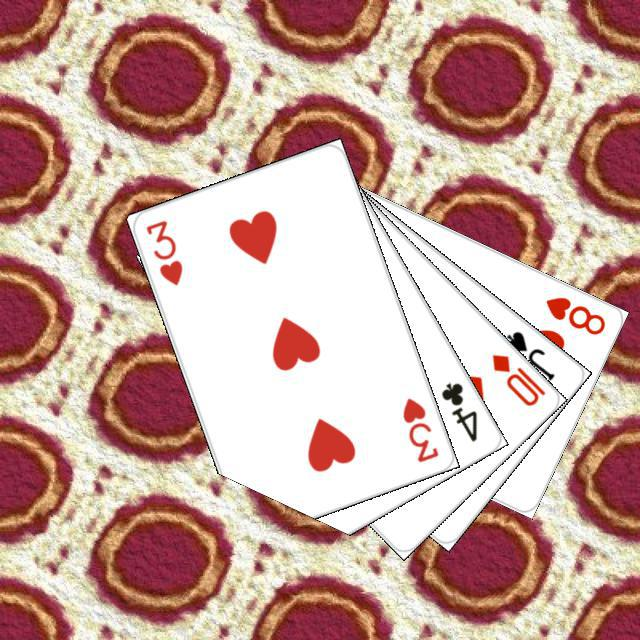10d: (487, 349, 548, 409)
3h: (140, 215, 185, 288), (397, 392, 441, 464)
4c: (436, 377, 480, 444)
8h: (540, 291, 608, 337)
Js: (500, 326, 557, 382)
